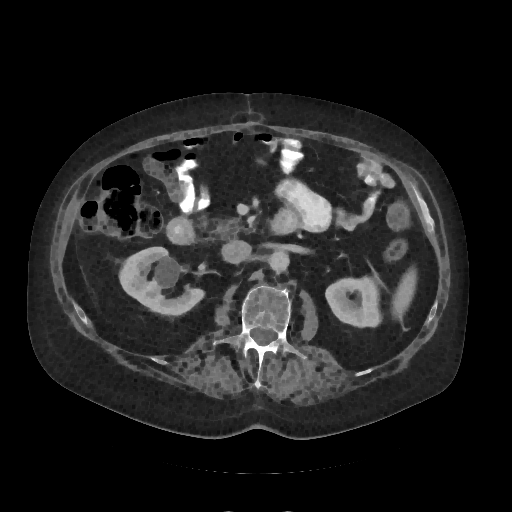Lesion: (153, 252, 183, 291)
